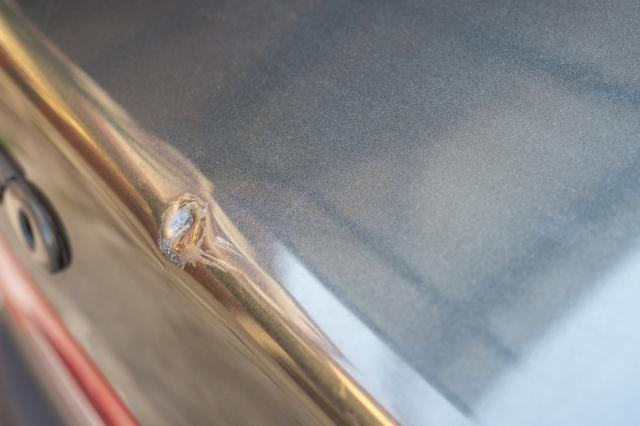scratch: (151, 190, 257, 287)
